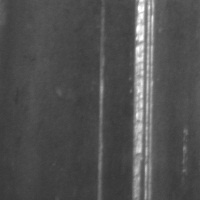scratches: (129, 0, 159, 199), (93, 0, 109, 199)
